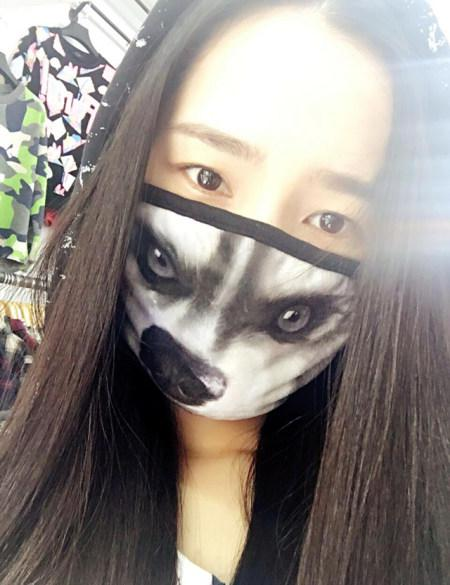OK: (118, 79, 395, 418)
